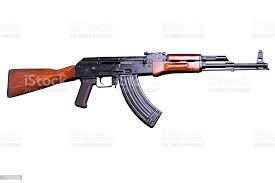gun: (5, 49, 270, 130)
